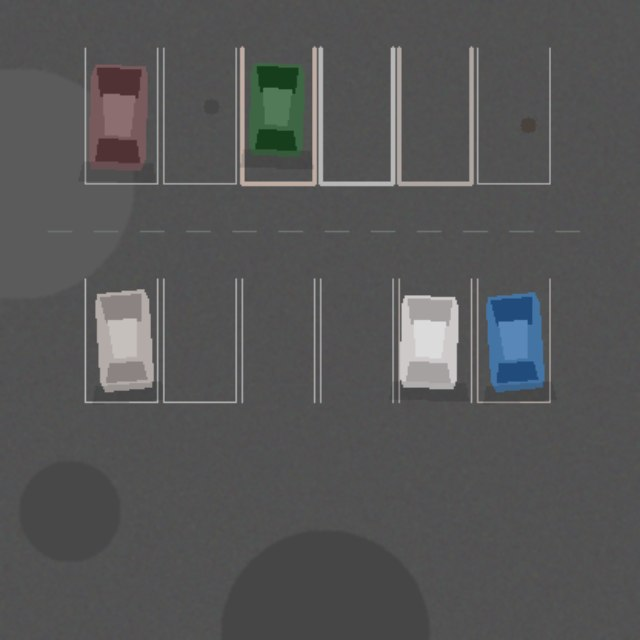space-empty: (398, 48, 471, 183), (163, 48, 235, 183), (320, 48, 392, 183), (477, 48, 549, 183), (163, 278, 235, 402), (242, 278, 314, 402), (320, 278, 392, 402)
space-occupied: (85, 48, 157, 183), (242, 48, 314, 183), (398, 278, 471, 402), (85, 278, 157, 402), (477, 278, 549, 402)
